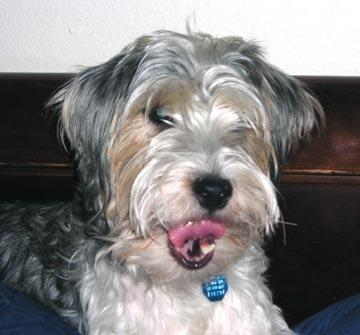wire-haired_fox_terrier: (0, 37, 310, 334)
